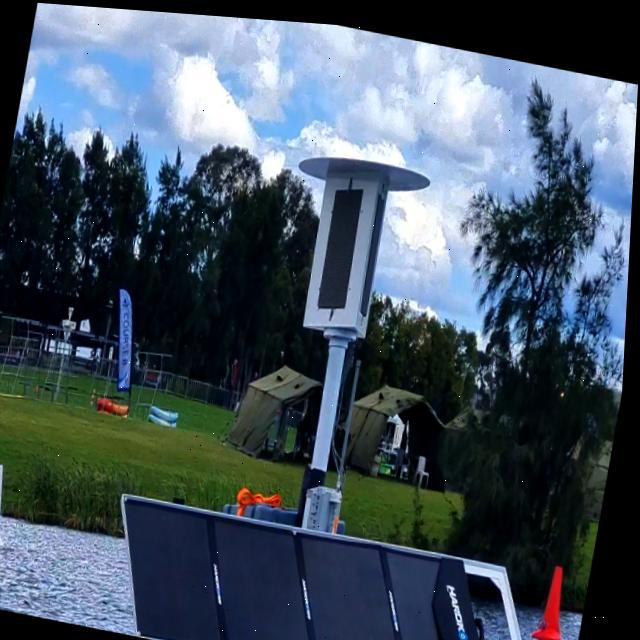led: (308, 169, 377, 316)
